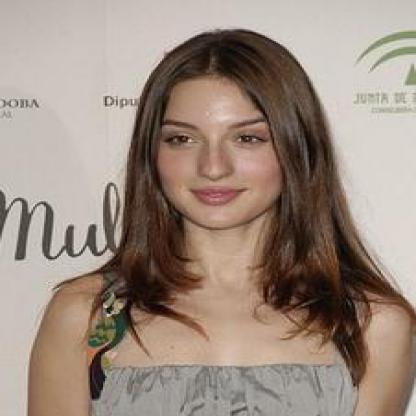long-hair: (92, 230, 379, 297)
